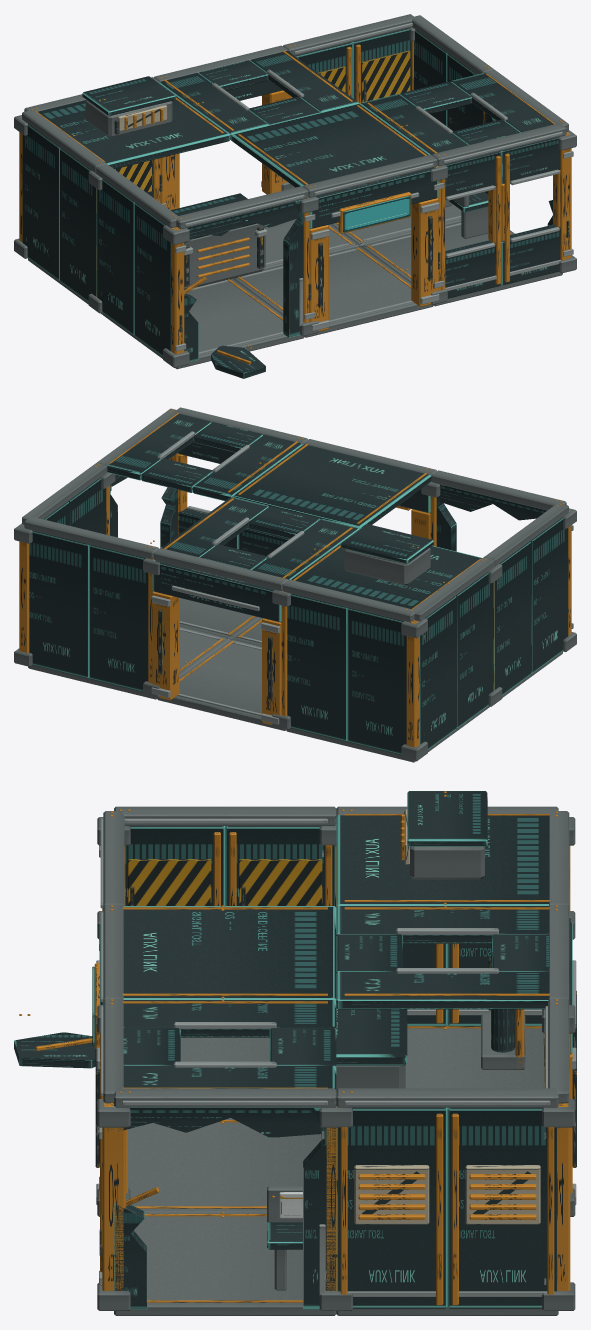
Rendered from CargoDepot_Ruined_LOD0.obj.
3 renders of one model, top to bottom at view 1: azimuth 30°, elevation 25°; view 2: azimuth 150°, elevation 25°; view 3: azimuth 270°, elevation 25°, orthographic. The views are drawn at different scales.
Visible parts, largest first — view 1: 004_roof_4m, 006_roof_skylight_4m, 008_roof_skylight_4m, 023_doorframe_4m, 003_floor_4m, 026_wall_window_2m, 002_roof_4m, 025_wall_window_2m, 000_floor_4m, 029_wall_solid_2m, 032_wall_vent_2m, 020_wall_breach_4m (+31 smaller); view 2: 004_roof_4m, 037_doorframe_4m, 008_roof_skylight_4m, 040_wall_solid_2m, 035_wall_solid_2m, 006_roof_skylight_4m, 034_wall_solid_2m, 039_wall_solid_2m, 005_floor_4m, 031_wall_vent_2m, 028_wall_solid_2m, 002_roof_4m (+30 smaller); view 3: 044_wall_vent_2m, 045_wall_vent_2m, 004_roof_4m, 006_roof_skylight_4m, 008_roof_skylight_4m, 007_floor_4m, 002_roof_4m, 003_floor_4m, 042_wall_breach_4m, 029_wall_solid_2m, 028_wall_solid_2m, 048_hvac_unit (+24 smaller).
Boxes of the visible parts, x1=… form: 004_roof_4m: x1=231, y1=103, x2=429, y2=187; 006_roof_skylight_4m: x1=159, y1=50, x2=358, y2=140; 008_roof_skylight_4m: x1=361, y1=73, x2=554, y2=155; 023_doorframe_4m: x1=309, y1=167, x2=439, y2=331; 003_floor_4m: x1=232, y1=246, x2=433, y2=337; 026_wall_window_2m: x1=501, y1=137, x2=565, y2=285; 002_roof_4m: x1=36, y1=82, x2=230, y2=169; 025_wall_window_2m: x1=441, y1=151, x2=501, y2=298; 000_floor_4m: x1=102, y1=279, x2=304, y2=369; 029_wall_solid_2m: x1=97, y1=178, x2=134, y2=335; 032_wall_vent_2m: x1=22, y1=124, x2=60, y2=280; 020_wall_breach_4m: x1=184, y1=200, x2=303, y2=361; 004_roof_4m: x1=232, y1=444, x2=431, y2=528; 037_doorframe_4m: x1=151, y1=560, x2=281, y2=724; 008_roof_skylight_4m: x1=107, y1=412, x2=302, y2=500; 040_wall_solid_2m: x1=29, y1=530, x2=89, y2=678; 035_wall_solid_2m: x1=287, y1=593, x2=347, y2=741; 006_roof_skylight_4m: x1=161, y1=496, x2=358, y2=579; 034_wall_solid_2m: x1=347, y1=607, x2=406, y2=754; 039_wall_solid_2m: x1=89, y1=544, x2=148, y2=691; 005_floor_4m: x1=157, y1=639, x2=286, y2=730; 031_wall_vent_2m: x1=456, y1=572, x2=493, y2=728; 028_wall_solid_2m: x1=530, y1=517, x2=568, y2=674; 002_roof_4m: x1=290, y1=528, x2=482, y2=609; 044_wall_vent_2m: x1=337, y1=1107, x2=447, y2=1308; 045_wall_vent_2m: x1=447, y1=1107, x2=557, y2=1308; 004_roof_4m: x1=122, y1=905, x2=336, y2=1001; 006_roof_skylight_4m: x1=336, y1=902, x2=549, y2=1009; 008_roof_skylight_4m: x1=122, y1=996, x2=336, y2=1089; 007_floor_4m: x1=114, y1=1212, x2=336, y2=1315; 002_roof_4m: x1=336, y1=814, x2=549, y2=907; 003_floor_4m: x1=128, y1=1118, x2=321, y2=1212; 042_wall_breach_4m: x1=114, y1=1106, x2=336, y2=1309; 029_wall_solid_2m: x1=225, y1=826, x2=334, y2=905; 028_wall_solid_2m: x1=124, y1=826, x2=225, y2=905; 048_hvac_unit: x1=400, y1=791, x2=487, y2=879.
Bounding box in the file's own units: 12.62 × 5.33 × 10.13.
Materials: 1 (1 with a texture image).
